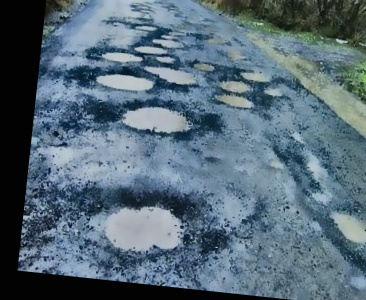pothole: (101, 185, 200, 261), (119, 100, 196, 137), (93, 70, 158, 93), (329, 207, 366, 244), (213, 90, 258, 110), (101, 48, 146, 65), (132, 42, 171, 57), (220, 78, 252, 94), (241, 68, 273, 82), (152, 36, 186, 49), (191, 59, 218, 72), (262, 84, 285, 97), (135, 22, 159, 33)
